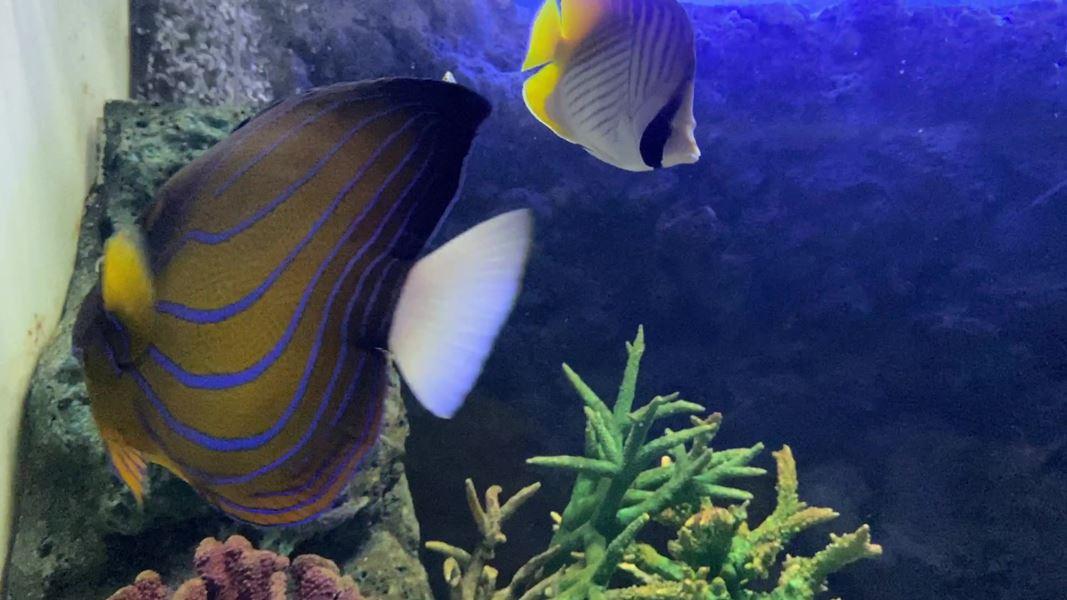Blue ring angelfish: (70, 70, 551, 536)
